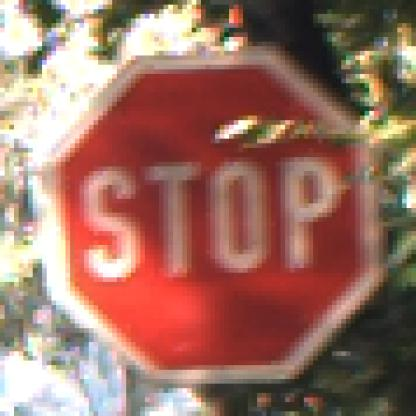stop: (43, 59, 382, 388)
